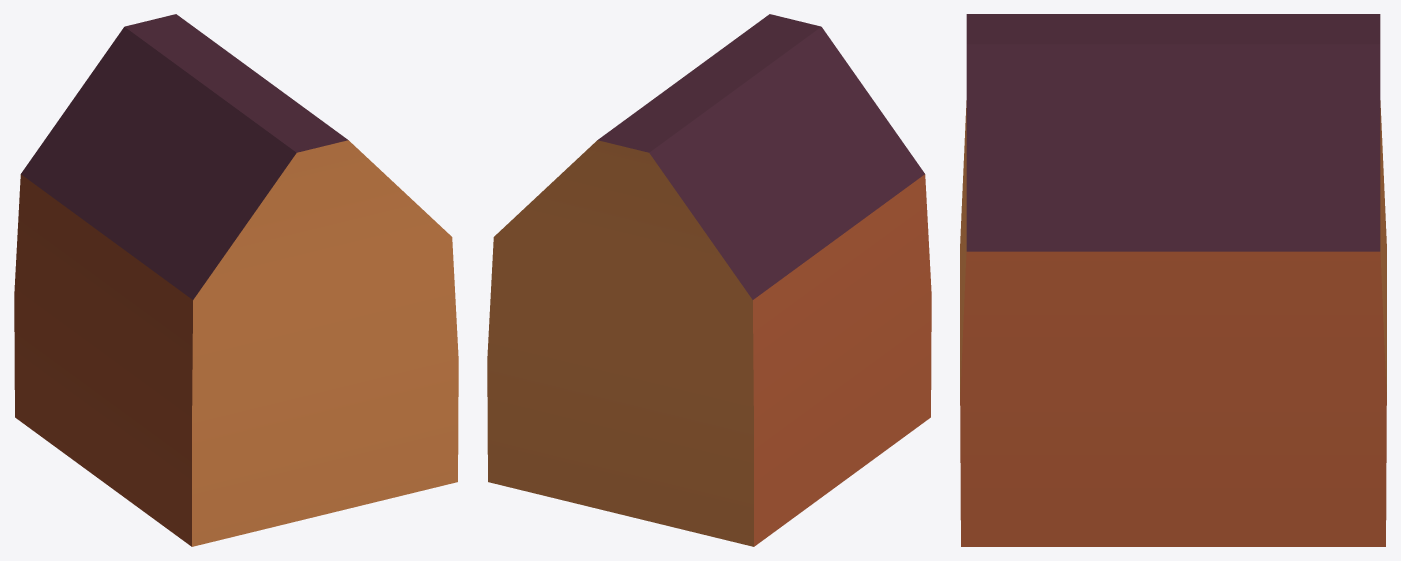
Rendered from House03_Orange.glb.
3 views of the same model, side by side, from view 1: azimuth 30°, elevation 25°; view 2: azimuth 150°, elevation 25°; view 3: azimuth 270°, elevation 25° (orthographic). The views are drawn at different scales.
Parts seen in each view (by area): view 1: House03_Orange; view 2: House03_Orange; view 3: House03_Orange.
Part boxes in pixels (box(x1,y1,x2,y2)): House03_Orange: box(14, 14, 458, 546); House03_Orange: box(487, 14, 931, 546); House03_Orange: box(960, 14, 1386, 546).
Size of the model in its own units: 1.91 by 2.51 by 2.21.
1 material, 1 textured.
